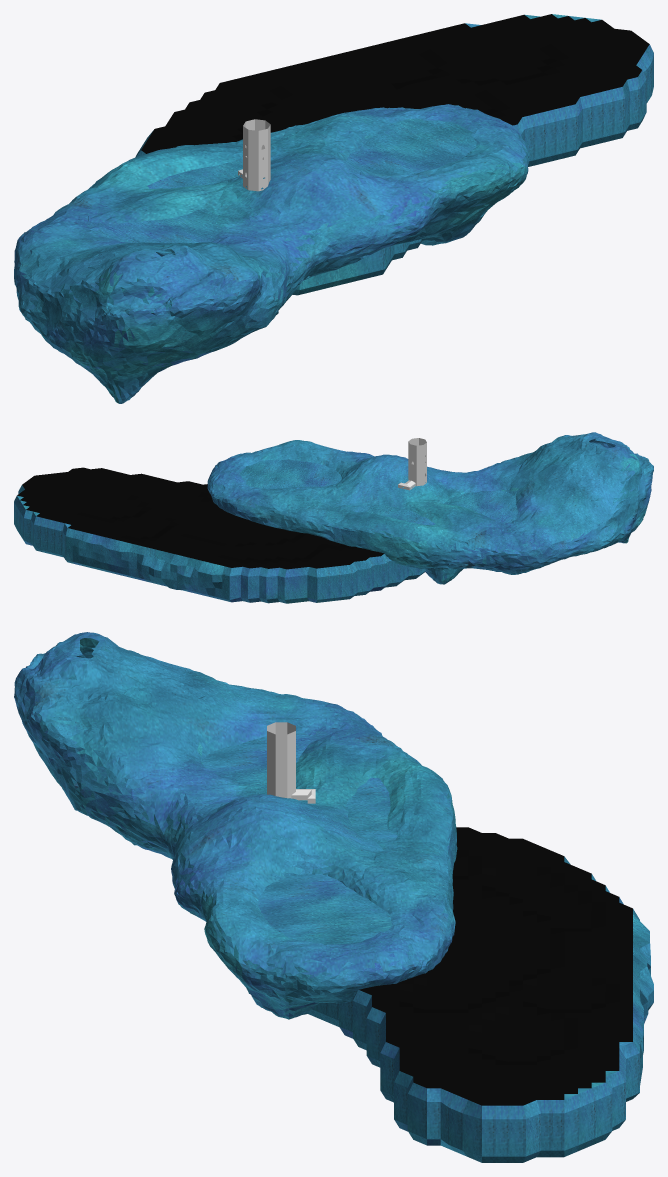
File: temp island 1.fbx
The picture shows the model from 3 angles, top to bottom: view 1: azimuth 30°, elevation 25°; view 2: azimuth 150°, elevation 25°; view 3: azimuth 270°, elevation 25°; orthographic projection. The views are drawn at different scales.
Parts seen in each view (by area): view 1: plane_1, plane, circle, circle_2, exterior skin, circle_1; view 2: plane_1, plane, circle, circle_2, exterior skin, circle_1; view 3: plane_1, plane, circle, circle_2, exterior skin, circle_1.
Part boxes in pixels (box(x1,y1,x2,y2)): plane_1: box(14, 104, 528, 403); plane: box(135, 14, 653, 295); circle: box(346, 118, 476, 174); circle_2: box(74, 208, 221, 253); exterior skin: box(238, 119, 270, 191); circle_1: box(147, 151, 276, 188); plane_1: box(207, 432, 653, 584); plane: box(14, 467, 425, 603); circle: box(239, 459, 341, 489); circle_2: box(443, 490, 517, 531); exterior skin: box(398, 438, 426, 490); circle_1: box(343, 504, 435, 525); plane_1: box(14, 632, 457, 1019); plane: box(307, 827, 653, 1162); circle: box(258, 874, 391, 944); circle_2: box(202, 728, 339, 789); exterior skin: box(267, 722, 315, 803); circle_1: box(345, 777, 397, 849).
Size of the model in its own units: 70350 by 16011 by 46611.
Materials: 2 (2 with a texture image).
